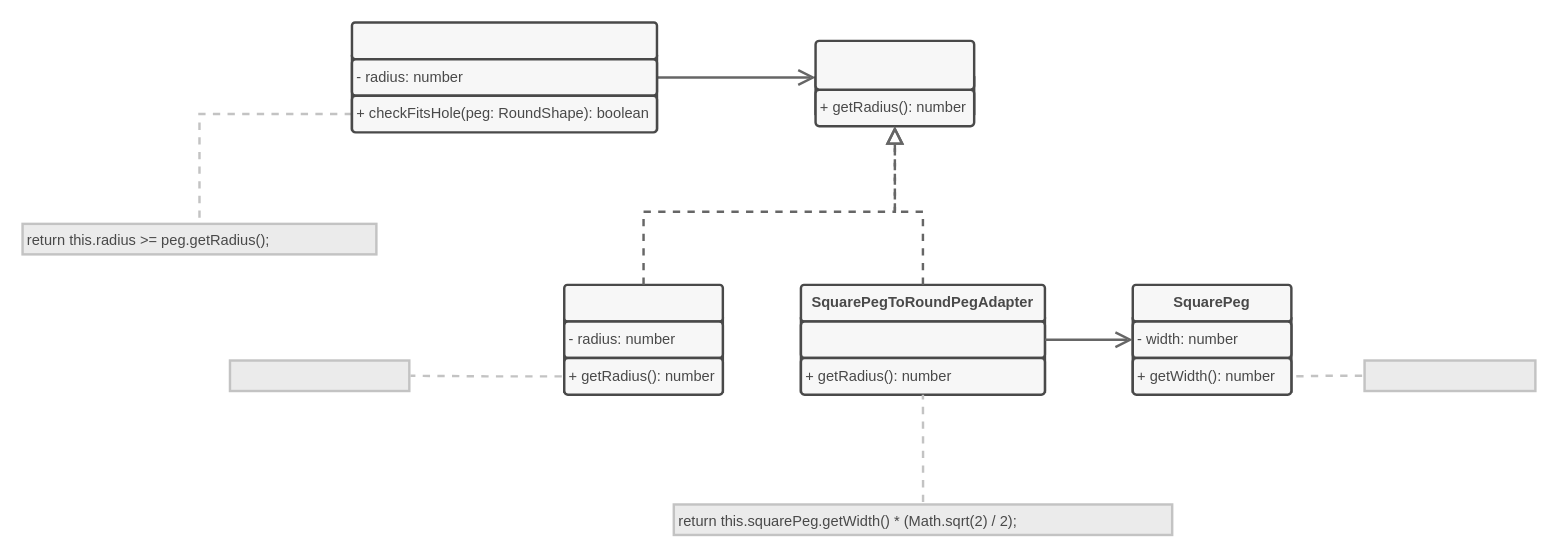
Some shapes in this 1557 by 556 pixel diagram are drawn without their labels. Each missing label, with the box of its shape:
- squarePeg: SquarePeg: (799, 320, 1046, 359)
<<interface>> RoundShape: (814, 39, 975, 90)
return this.radius;: (228, 359, 410, 392)
return this.width;: (1363, 359, 1536, 392)
RoundHole: (350, 21, 658, 60)
RoundPeg: (562, 283, 723, 322)
